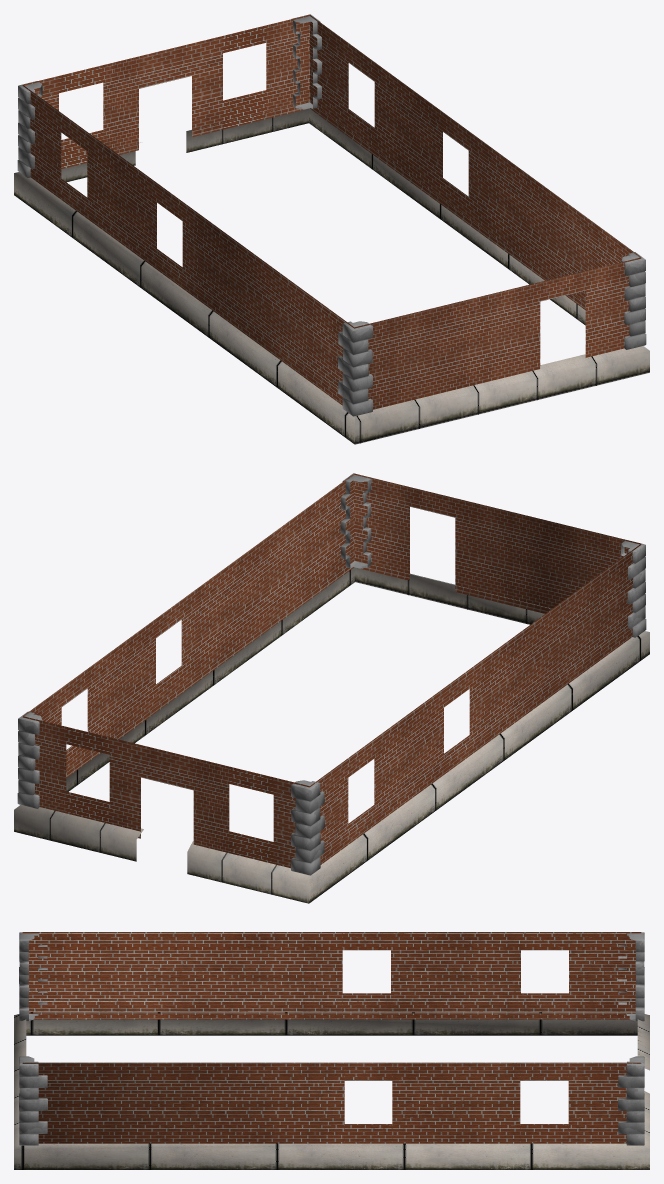
Rendered from ground floor.obj.
3 renders of one model, top to bottom at view 1: azimuth 30°, elevation 25°; view 2: azimuth 150°, elevation 25°; view 3: azimuth 270°, elevation 25°, orthographic. The views are drawn at different scales.
Parts seen in each view (by area): view 1: bordas_Plane.007_parede, bordas_Plane.007_concreto_sujo_placa_concreto_suja.png, bordas_Plane.007_coluna; view 2: bordas_Plane.007_parede, bordas_Plane.007_concreto_sujo_placa_concreto_suja.png, bordas_Plane.007_coluna, bordas_Plane.007_concreto_sujo; view 3: bordas_Plane.007_parede, bordas_Plane.007_concreto_sujo_placa_concreto_suja.png, bordas_Plane.007_coluna, bordas_Plane.007_concreto_sujo.
Part boxes in pixels (x1=…): bordas_Plane.007_parede: x1=22, y1=14, x2=641, y2=409; bordas_Plane.007_concreto_sujo_placa_concreto_suja.png: x1=14, y1=101, x2=649, y2=444; bordas_Plane.007_coluna: x1=17, y1=14, x2=646, y2=416; bordas_Plane.007_parede: x1=22, y1=473, x2=641, y2=868; bordas_Plane.007_concreto_sujo_placa_concreto_suja.png: x1=14, y1=560, x2=649, y2=903; bordas_Plane.007_coluna: x1=17, y1=473, x2=646, y2=875; bordas_Plane.007_concreto_sujo: x1=187, y1=841, x2=309, y2=881; bordas_Plane.007_parede: x1=22, y1=932, x2=641, y2=1143; bordas_Plane.007_concreto_sujo_placa_concreto_suja.png: x1=14, y1=1012, x2=649, y2=1169; bordas_Plane.007_coluna: x1=19, y1=932, x2=644, y2=1145; bordas_Plane.007_concreto_sujo: x1=637, y1=1014, x2=649, y2=1070.
Size of the model in its own units: 12.33 by 4.52 by 24.7.
